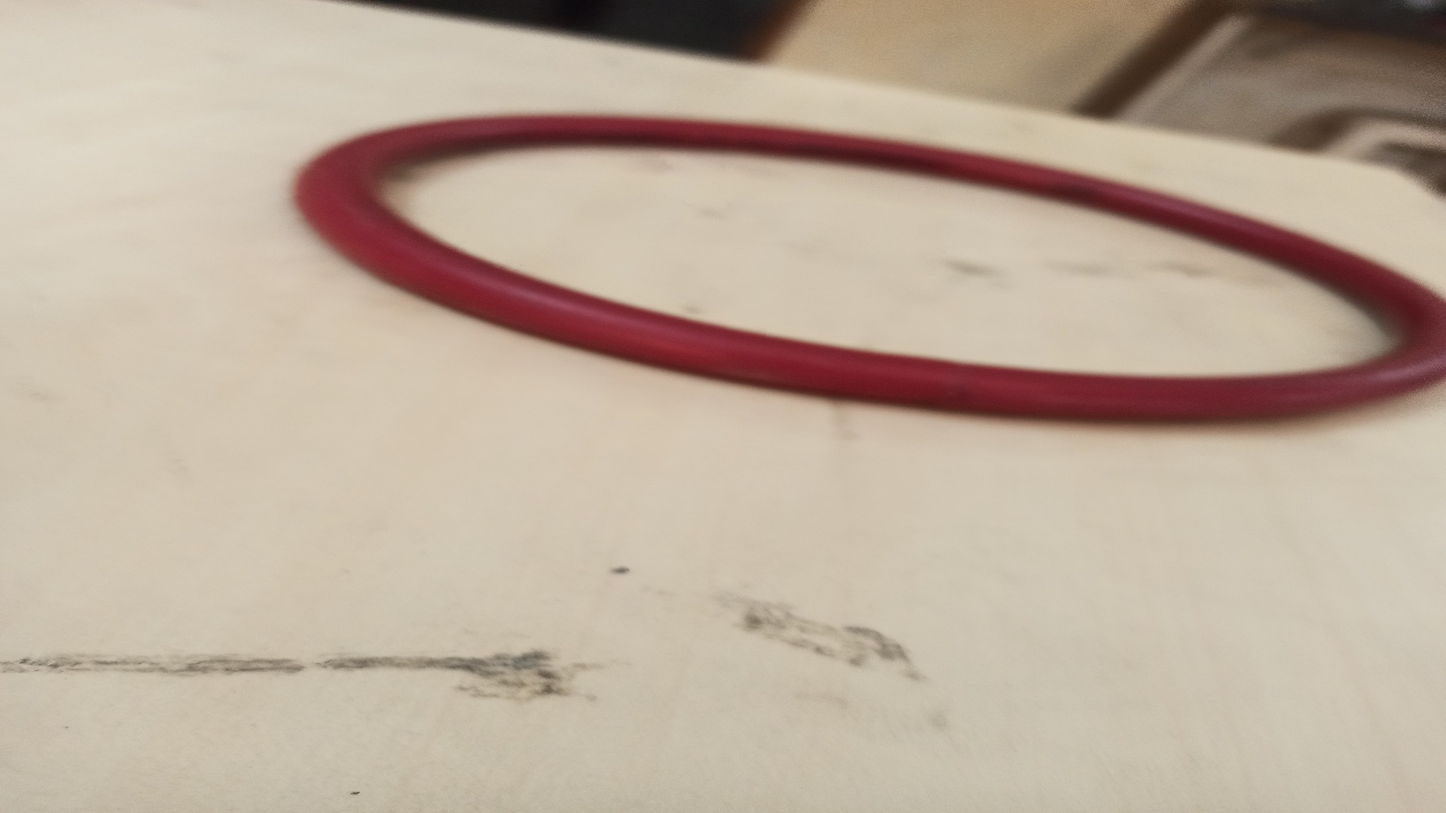Red ring: (302, 116, 1446, 421)
